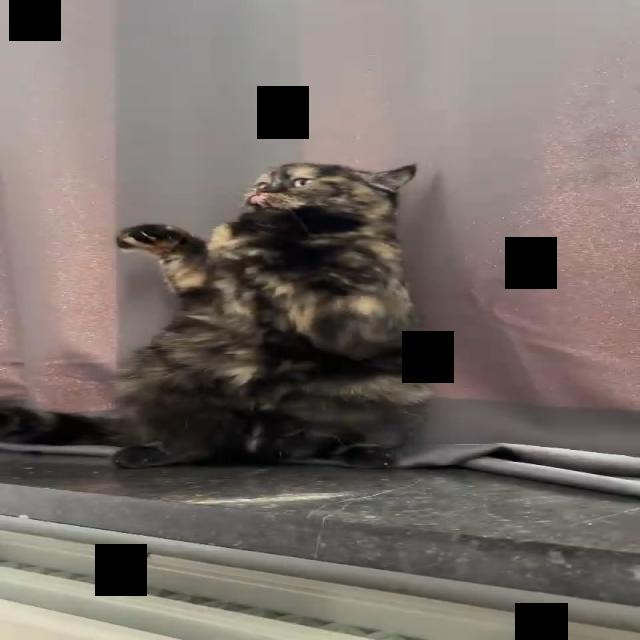authorized: (1, 160, 435, 469)
